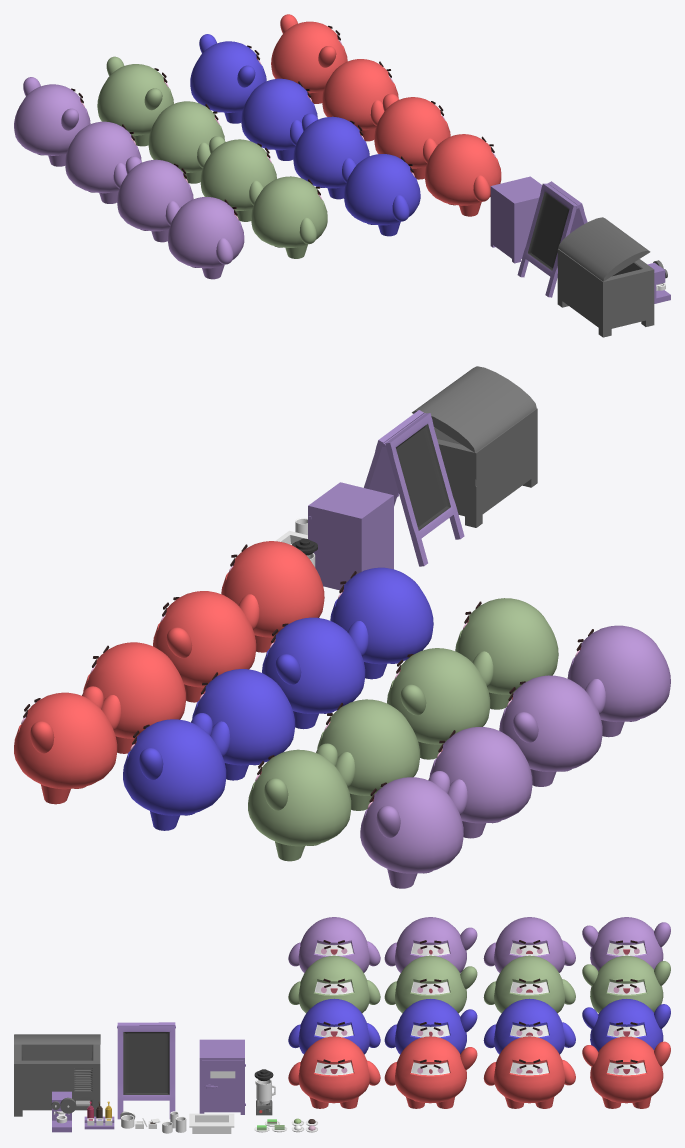
The model's file is exportation_kts.fbx.
3 renders of one model, top to bottom at view 1: azimuth 30°, elevation 25°; view 2: azimuth 150°, elevation 25°; view 3: azimuth 270°, elevation 25°, orthographic. The views are drawn at different scales.
Parts seen in each view (by area): view 1: pSphere1 (×12), pasted__pSphere1 (×4), pCube17, couvercle_ice, pCube1, pasted__pasted__pCube1; view 2: pSphere1 (×12), pasted__pSphere1 (×4), pCube1, pCube17, pasted__pasted__pCube1, couvercle_ice, pasted__pCube1; view 3: pSphere1 (×12), pasted__pSphere1 (×4), pCube17, pasted__pCube1, pasted__porte_frigo, pCube1, couvercle_ice, container, pCube31, pCylinder7.
Boxes of the visible parts, bbox=[...] form: pSphere1 (×12): bbox=[65, 59, 501, 279]; pasted__pSphere1 (×4): bbox=[14, 21, 347, 166]; pCube17: bbox=[557, 248, 654, 337]; couvercle_ice: bbox=[558, 217, 650, 281]; pCube1: bbox=[490, 176, 542, 263]; pasted__pasted__pCube1: bbox=[517, 183, 576, 297]; pSphere1 (×12): bbox=[83, 541, 670, 838]; pasted__pSphere1 (×4): bbox=[14, 692, 463, 888]; pCube1: bbox=[308, 482, 393, 590]; pCube17: bbox=[434, 408, 537, 527]; pasted__pasted__pCube1: bbox=[385, 413, 464, 566]; couvercle_ice: bbox=[412, 366, 536, 452]; pasted__pCube1: bbox=[364, 410, 423, 505]; pSphere1 (×12): bbox=[298, 917, 564, 1108]; pasted__pSphere1 (×4): bbox=[590, 917, 663, 1108]; pCube17: bbox=[14, 1044, 100, 1116]; pasted__pCube1: bbox=[117, 1025, 175, 1119]; pasted__porte_frigo: bbox=[202, 1060, 243, 1109]; pCube1: bbox=[199, 1039, 244, 1114]; couvercle_ice: bbox=[14, 1034, 100, 1044]; container: bbox=[189, 1113, 234, 1133]; pCube31: bbox=[52, 1091, 71, 1132]; pCylinder7: bbox=[255, 1079, 275, 1104].
Bounding box in the file's own units: 12.6 × 2.95 × 21.25.
